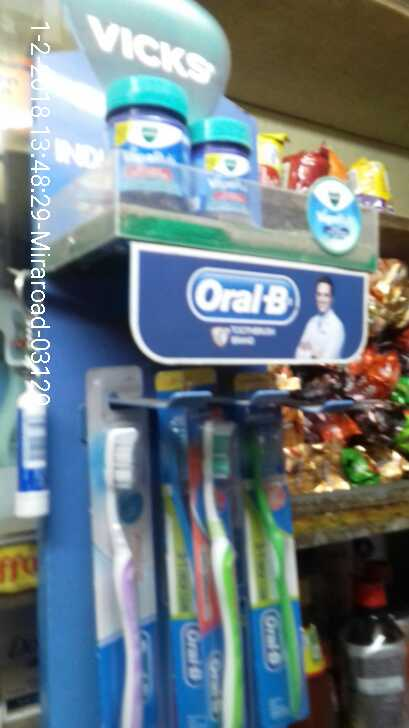pharmacy: (240, 387, 351, 728), (73, 374, 170, 720), (171, 416, 259, 727), (99, 80, 194, 199), (197, 114, 262, 219)
